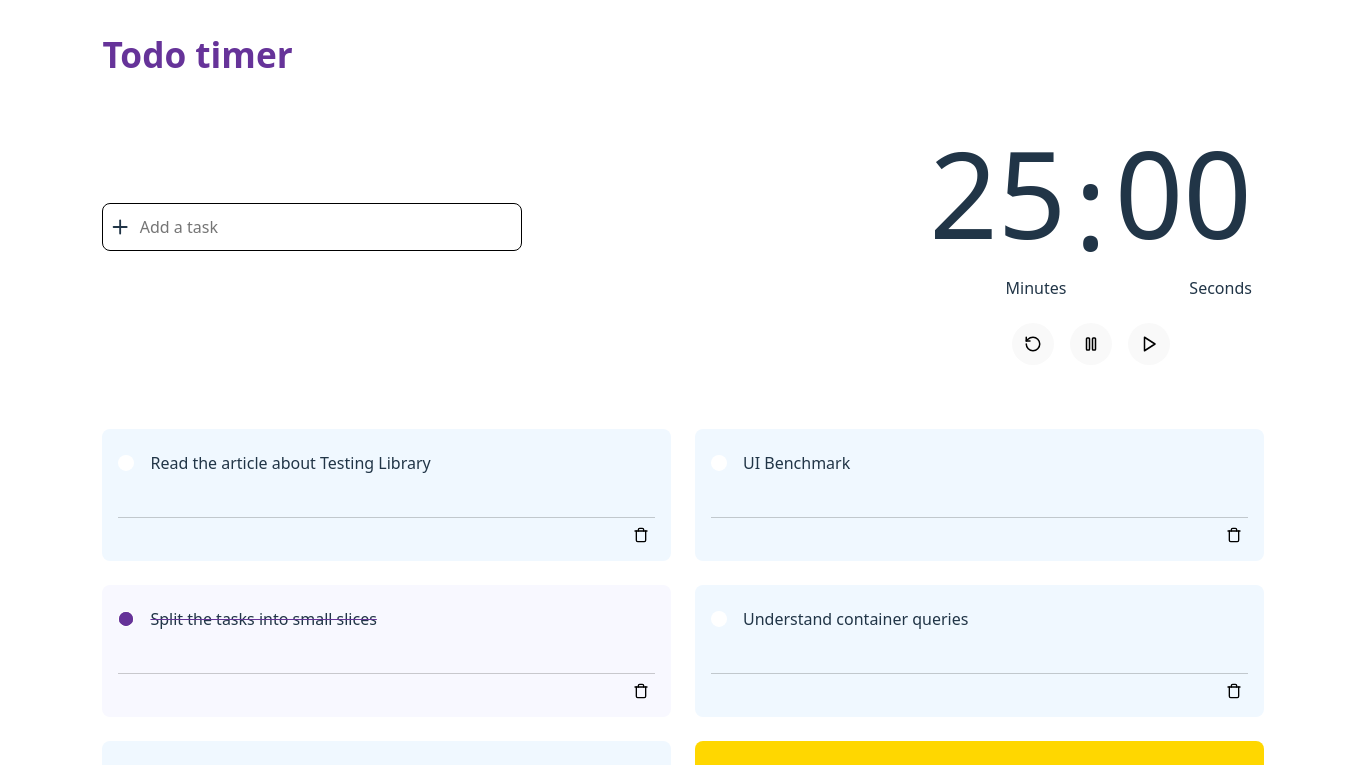
Test case: Todo timer › create, edit and mark todos as done › should edit inline the todo title
Click the text named "Todo title".
click(291, 464)  # box [150,452,431,475]
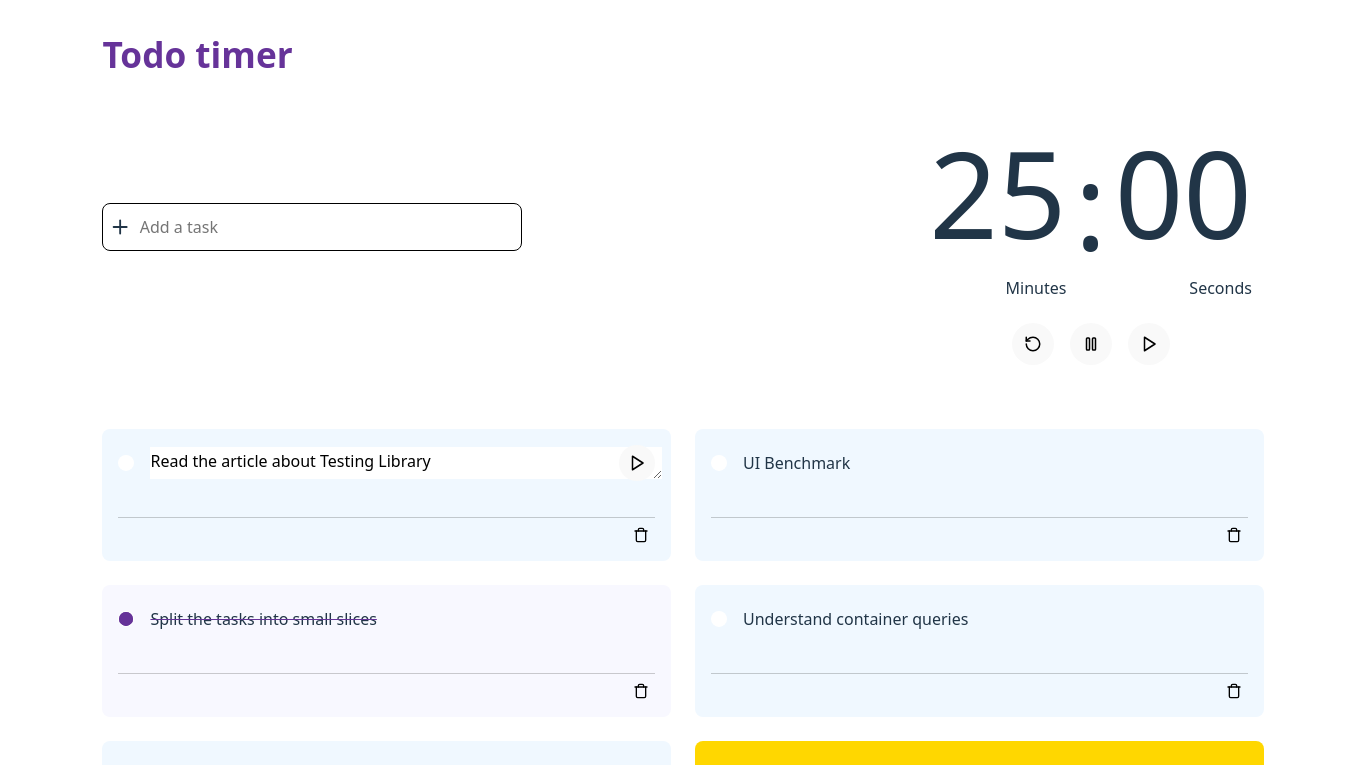
Result: the text box named "Edit your todo title" holds "Read the article about Testing Library"
Type " hello." into the text box named "Edit your todo title".
click(406, 464); type(" hello.")  # box [150,448,662,480]
Then press Enter
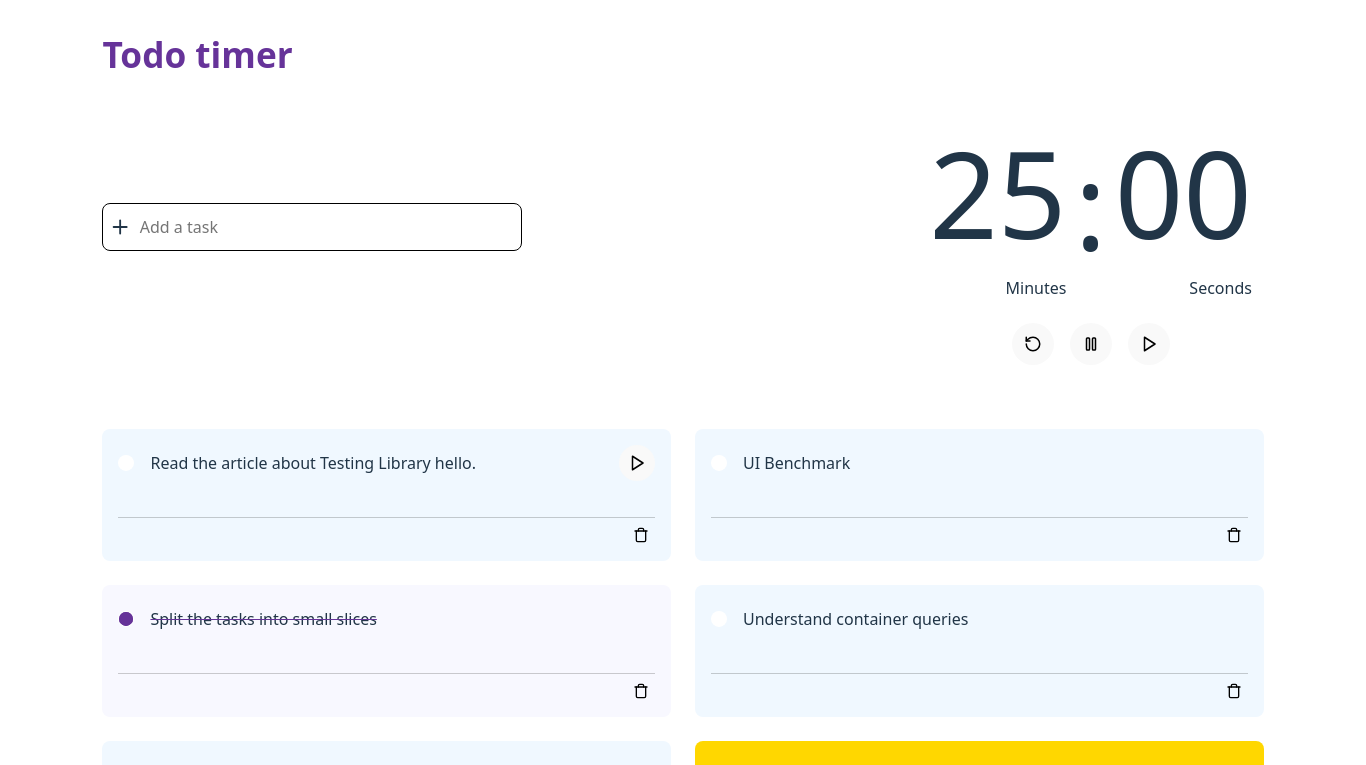
Result: the text named "Todo title" shows "hello." at [150,452,476,474]
